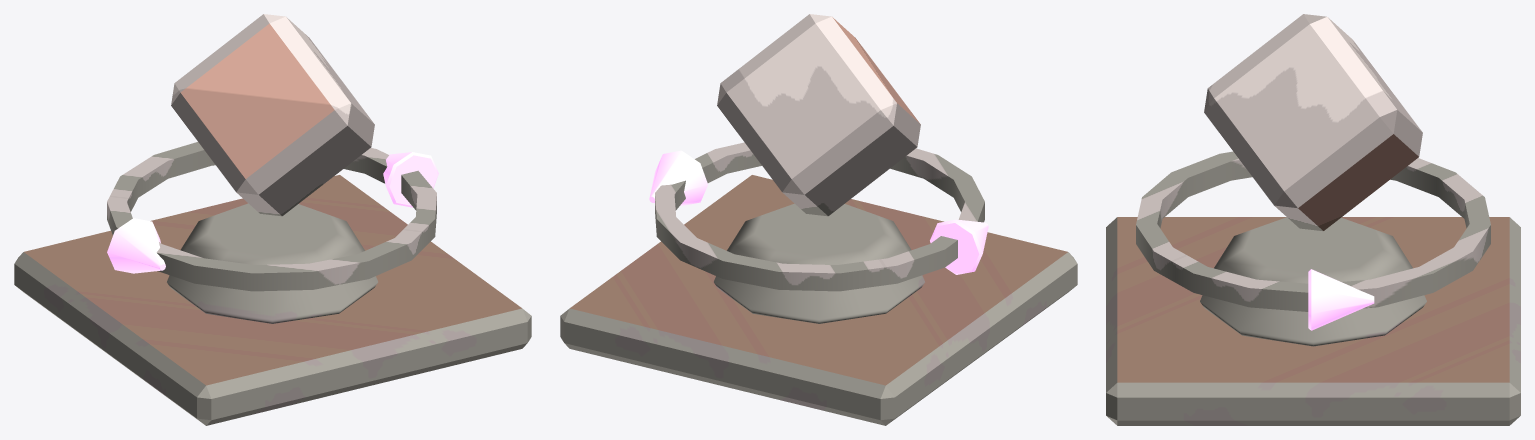
Rendered from R4X_RewardReroll_LOD1.glb.
3 views of the same model, side by side, from view 1: azimuth 30°, elevation 25°; view 2: azimuth 150°, elevation 25°; view 3: azimuth 270°, elevation 25° (orthographic). The views are drawn at different scales.
Visible parts, largest first — view 1: R4X_RewardReroll_LOD1; view 2: R4X_RewardReroll_LOD1; view 3: R4X_RewardReroll_LOD1.
Boxes of the visible parts, x1=… form: R4X_RewardReroll_LOD1: x1=14, y1=14, x2=531, y2=425; R4X_RewardReroll_LOD1: x1=560, y1=14, x2=1077, y2=425; R4X_RewardReroll_LOD1: x1=1106, y1=14, x2=1520, y2=425.
Bounding box in the file's own units: 0.52 × 0.4493 × 0.52.
Materials: 3 (2 with a texture image).
